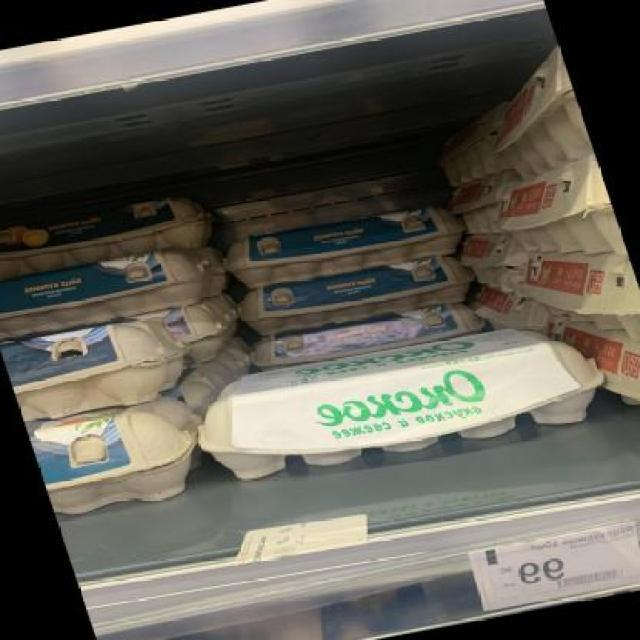egg: (181, 314, 613, 491), (231, 246, 487, 342), (0, 312, 200, 430), (220, 196, 471, 290), (0, 240, 234, 340), (25, 396, 209, 520), (0, 185, 220, 286), (240, 298, 490, 374)
